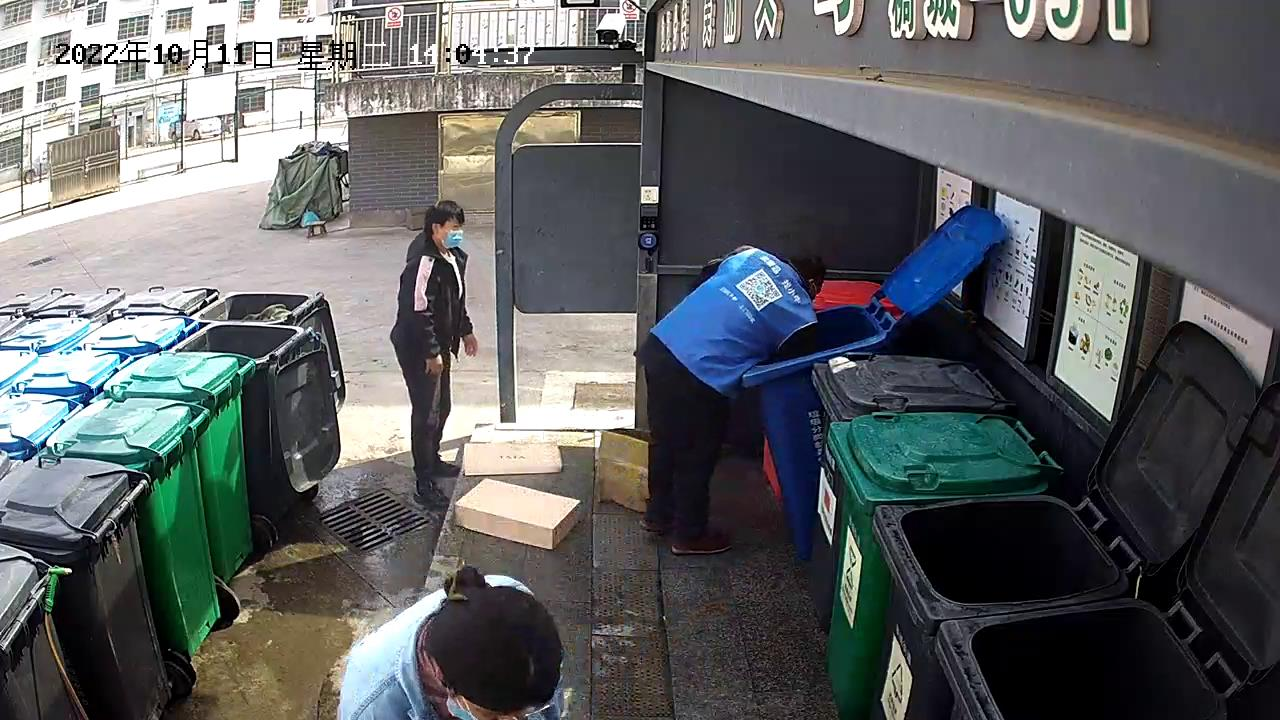person: (387, 198, 481, 508)
worker: (632, 241, 831, 558), (335, 563, 568, 720)
zhizhipin: (450, 476, 584, 554), (593, 425, 655, 515), (460, 437, 565, 477)
